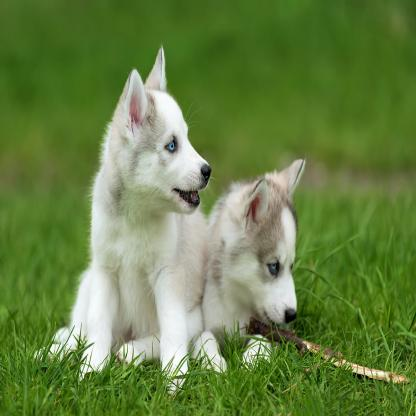husky: (34, 45, 209, 413), (193, 154, 308, 369)
